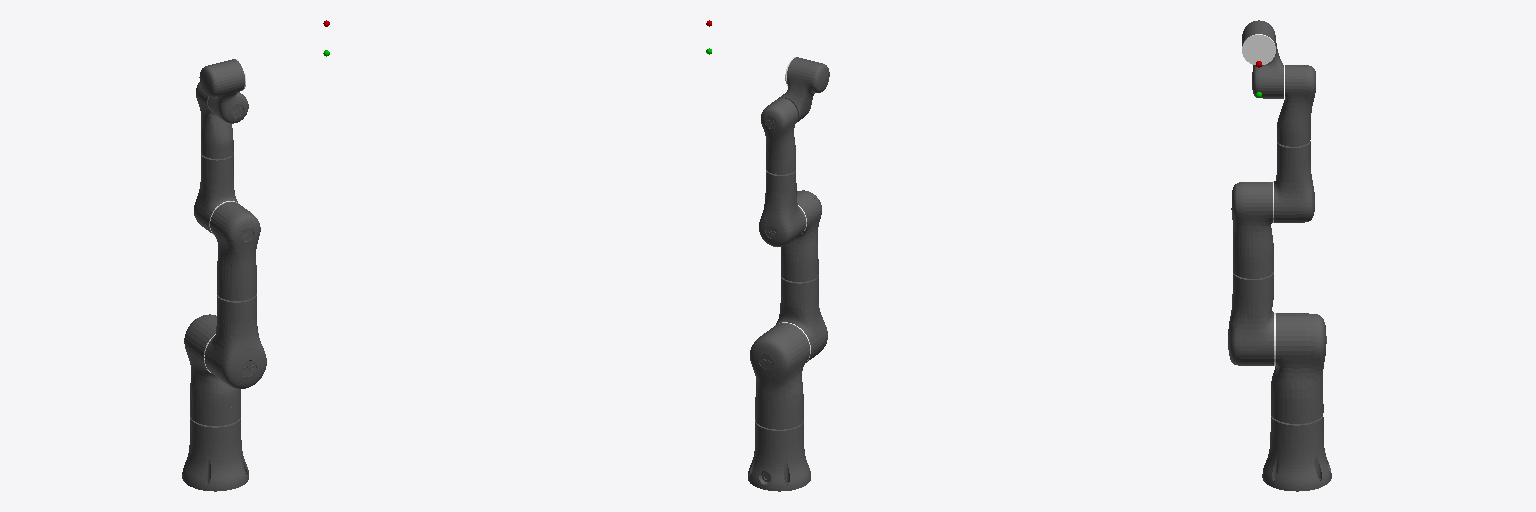
robot.urdf — rizon_with_gripper:
<?xml version="1.0"?>
<!-- ======================================================================== -->
<!-- | Flexiv Rizon 10s (with blurred dynamic parameters)                   | -->
<!-- ======================================================================== -->
<robot name="rizon_with_gripper">

  <mujoco>
    <compiler 
    meshdir="../meshes" 
    balanceinertia="true" 
    discardvisual="false" 
    strippath="false" />
  </mujoco>

  <material name="rizon_light_grey">
    <color rgba="0.7 0.7 0.7 1.0" />
  </material>
  <material name="rizon_dark_grey">
    <color rgba="0.4 0.4 0.4 1.0" />
  </material>
  <material name="rizon_white">
    <color rgba="1.0 1.0 1.0 1.0" />
  </material>

  <material name="2f_85_silicone">
    <color rgba="0.1882 0.1882 0.1882 1"/>
  </material>
  <material name="2f_85_gray">
    <color rgba="0.4627 0.4627 0.4627 1"/>
  </material>
  <material name="2f_85_black">
    <color rgba="0.149 0.149 0.149 1"/>
  </material>

  <material name="green">
    <color rgba="0.0 0.8 0.0 1.0"/>
  </material>
  <material name="red">
    <color rgba="0.8 0.0 0.0 1.0"/>
  </material>

  <link name="link0">
    <inertial>
      <mass value="9.2" />
      <origin rpy="0 0 0" xyz="0.0 -0.0 0.13" />
      <inertia ixx="0.08" ixy="0.0" ixz="-0.0" iyy="0.08" iyz="0.0" izz="0.04" />
    </inertial>
    <visual name="shell-0">
      <origin rpy="0 0 0" xyz="0 0 0" />
      <geometry>
        <mesh filename="rizon10s/visual/v_link0.obj" />
      </geometry>
      <material name="rizon_dark_grey" />
    </visual>


    <!--<collision name="hull-0">-->
    <!--  <origin rpy="0 0 0" xyz="0 0 0" />-->
    <!--  <geometry>-->
    <!--    <mesh filename="rizon10s/collision/c_link0.stl" />-->
    <!--  </geometry>-->
    <!--</collision>-->

      <collision name="c_link0.stl">
      <origin rpy="-3.135731200509898 -0.0070914286865064674 1.7601452401316544" xyz="0.00032891819899692 -0.00036876907392473224 0.07876664364163569"/>
      <geometry>
        <cylinder radius="0.10828695195085732" length="0.10862981656370363"/>
      </geometry>
    </collision>

  <collision_checking><capsule name="c_link0.stl"/></collision_checking>




  </link>

  <joint name="joint_1" type="revolute">
    <parent link="link0" />
    <child link="link1" />
    <origin rpy="0.0 0.0 -3.141592653589793" xyz="0.0 0.0 0.21" />
    <axis xyz="0 0 1" />
    <limit effort="261" lower="-2.7925" upper="2.7925" velocity="1.7453" />
  </joint>

  <link name="link1">
    <inertial>
      <mass value="9.7" />
      <origin rpy="0 0 0" xyz="0.0 0.03 0.16" />
      <inertia ixx="0.18" ixy="0.0" ixz="0.0" iyy="0.17" iyz="0.02" izz="0.04" />
    </inertial>
    <visual name="shell-1">
      <origin rpy="0 0 0" xyz="0 0 0" />
      <geometry>
        <mesh filename="rizon10s/visual/v_link1.obj" />
      </geometry>
      <material name="rizon_dark_grey" />
    </visual>
    <visual name="ring-1">
      <origin rpy="0 0 0" xyz="0 0 -0.0025" />
      <geometry>
        <mesh filename="rizon10s/visual/v_ring_s1.obj"  />
      </geometry>
      <material name="rizon_white" />
    </visual>

  

   <!--<collision name="hull-1">-->
    <!--  <origin rpy="0 0 0" xyz="0 0 0" />-->
    <!--  <geometry>-->
    <!--    <mesh filename="rizon10s/collision/c_link1.stl" />-->
    <!--  </geometry>-->
    <!--</collision>-->

    <collision name="c_link1.stl">
      <origin rpy="3.1401209981186198 -0.005307839694209449 -2.6006602298211883" xyz="0.00024814527368391225 0.00029127196083683957 0.15303012648186404"/>
      <geometry>
        <cylinder radius="0.11" length="0.1820172995965973"/>
      </geometry>
    </collision>




  </link>

  <joint name="joint_2" type="revolute">
    <parent link="link1" />
    <child link="link2" />
    <origin rpy="0.0 0.0 0.0" xyz="0.0 0.0675 0.24" />
    <axis xyz="0 1 0" />
    <limit effort="261" lower="-2.6704" upper="2.6704" velocity="1.7453" />
  </joint>

  <link name="link2">
    <inertial>
      <mass value="6.56" />
      <origin rpy="0 0 0" xyz="-0.008 0.03 0.11" />
      <inertia ixx="0.1" ixy="0.0" ixz="0.0" iyy="0.08" iyz="0.02" izz="0.03" />
    </inertial>
    <visual name="shell-2">
      <origin rpy="0 0 0" xyz="0 0 0" />
      <geometry>
        <mesh filename="rizon10s/visual/v_link2.obj" />
      </geometry>
      <material name="rizon_dark_grey" />
    </visual>
    <visual name="ring-2">
      <origin rpy="1.5707963 0 0" xyz="0 -0.0025 0" />
      <geometry>
        <mesh filename="rizon10s/visual/v_ring_s2.obj"  />
      </geometry>
      <material name="rizon_white" />
    </visual>

<!-- 
    <collision name="hull-2">
      <origin rpy="0 0 0" xyz="0 0 0" />
      <geometry>
        <mesh filename="c_link2.stl" />
      </geometry>
    </collision> -->

    <collision name="c_link2.stl">
      <origin rpy="-0.04126720865260602 -0.005040524508146377 0.00010401917072817447" xyz="-0.0002424301681967157 0.05976210733104183 0.07367088388281477"/>
      <geometry>
        <cylinder radius="0.09838617557444361" length="0.1493152186350586"/>
      </geometry>
    </collision>

  <collision_checking><capsule name="c_link2.stl"/></collision_checking>





  </link>

  <joint name="joint_3" type="revolute">
    <parent link="link2" />
    <child link="link3" />
    <origin rpy="0.0 0.0 0.0" xyz="0.0 0.0625 0.2275" />
    <axis xyz="0 0 1" />
    <limit effort="123" lower="-2.7925" upper="2.7925" velocity="2.0944" />
  </joint>

  <link name="link3">
    <inertial>
      <mass value="5.45"/>
      <origin rpy="0 0 0" xyz="0.0 -0.026 0.17" />
      <inertia ixx="0.04" ixy="-0.0" ixz="-0.0" iyy="0.03" iyz="-0.01" izz="0.01" />
    </inertial>
    <visual name="shell-3">
      <origin rpy="0 0 0" xyz="0 0 0" />
      <geometry>
        <mesh filename="rizon10s/visual/v_link3.obj" />
      </geometry>
      <material name="rizon_dark_grey" />
    </visual>
    <visual name="ring-3">
      <origin rpy="0 0 0" xyz="0 0 -0.0025" />
      <geometry>
        <mesh filename="rizon10s/visual/v_ring_s3.obj"  />
      </geometry>
      <material name="rizon_white" />
    </visual>

<!-- 
    <collision name="hull-3">
      <origin rpy="0 0 0" xyz="0 0 0" />
      <geometry>
        <mesh filename="c_link3.stl" />
      </geometry>
    </collision> -->

        <collision name="c_link3.stl">
      <origin rpy="-3.110942166794248 0.012942070040906195 -0.7990266024421873" xyz="0.0009435946660551249 -0.003243672501785833 0.13776199595725278"/>
      <geometry>
        <cylinder radius="0.08133934809468238" length="0.17962829931741664"/>
      </geometry>
    </collision>

    <collision_checking><capsule name="c_link3.stl"/></collision_checking>

  
  
  
  
  </link>

  <joint name="joint_4" type="revolute">
    <parent link="link3" />
    <child link="link4" />
    <origin rpy="0.0 0.0 -3.141592653589793" xyz="0.0 -0.0625 0.2225" />
    <axis xyz="0 1 0" />
    <limit effort="123" lower="-2.7053" upper="2.7053" velocity="2.0944" />
  </joint>

  <link name="link4">
    <inertial>
      <mass value="2.906" />
      <origin rpy="0 0 0" xyz="0.013 0.047 0.101" />
      <inertia ixx="0.03" ixy="0.0" ixz="0.0" iyy="0.03" iyz="0.0" izz="0.01" />
    </inertial>
    <visual name="shell-4">
      <origin rpy="0 0 0" xyz="0 0 0" />
      <geometry>
        <mesh filename="rizon10s/visual/v_link4.obj" />
      </geometry>
      <material name="rizon_dark_grey" />
    </visual>
    <visual name="ring-4">
      <origin rpy="1.5707963 0 0" xyz="0 -0.0025 0" />
      <geometry>
        <mesh filename="rizon10s/visual/v_ring_s4.obj"  />
      </geometry>
      <material name="rizon_white" />
    </visual>

  
  
     <!--<collision name="hull-4">-->
    <!--  <origin rpy="0 0 0" xyz="0 0 0" />-->
    <!--  <geometry>-->
    <!--    <mesh filename="rizon10s/collision/c_link4.stl" />-->
    <!--  </geometry>-->
    <!--</collision>-->

    <collision name="c_link4.stl">
      <origin rpy="-0.04999599865678187 -0.0068829879926115625 0.00017209745747710214" xyz="-0.0005080457137345763 0.05393072897828459 0.06885405527591208"/>
      <geometry>
        <cylinder radius="0.08058945288499701" length="0.14050029766613556"/>
      </geometry>
    </collision>

  <collision_checking><capsule name="c_link4.stl"/></collision_checking>
  
  
  
  
  </link>

  <joint name="joint_5" type="revolute">
    <parent link="link4" />
    <child link="link5" />
    <origin rpy="0.0 0.0 -3.141592653589793" xyz="0.0 0.0575 0.205" />
    <axis xyz="0 0 1" />
    <limit effort="57" lower="-2.9671" upper="2.9671" velocity="3.8397" />
  </joint>

  <link name="link5">
    <inertial>
      <mass value="2.523" />
      <origin rpy="0 0 0" xyz="0.004 0.007 0.1309" />
      <inertia ixx="0.01" ixy="0.0" ixz="0.0" iyy="0.01" iyz="0.0" izz="0.001" />
    </inertial>
    <visual name="shell-5">
      <origin rpy="0 0 0" xyz="0 0 0" />
      <geometry>
        <mesh filename="rizon10s/visual/v_link5.obj" />
      </geometry>
      <material name="rizon_dark_grey" />
    </visual>
    <visual name="ring-5">
      <origin rpy="0 0 0" xyz="0 0 -0.0025" />
      <geometry>
        <mesh filename="rizon10s/visual/v_ring_s5.obj"  />
      </geometry>
      <material name="rizon_white" />
    </visual>





    <!--<collision name="hull-5">-->
    <!--  <origin rpy="0 0 0" xyz="0 0 0" />-->
    <!--  <geometry>-->
    <!--    <mesh filename="rizon10s/collision/c_link5.stl" />-->
    <!--  </geometry>-->
    <!--</collision>-->

    <collision name="c_link5.stl">
      <origin rpy="-3.062942439795058 0.0025142117447503054 -0.06387935132241074" xyz="0.0002143888046636051 -0.0062263048590413045 0.1148623027407365"/>
      <geometry>
        <cylinder radius="0.06321103718614053" length="0.1586607128833286"/>
      </geometry>
    </collision>

  <collision_checking><capsule name="c_link5.stl"/></collision_checking>



  
  
  
  
  
  
  </link>

  <joint name="joint_6" type="revolute">
    <parent link="link5" />
    <child link="link6" />
    <origin rpy="0.0 0.0 0.0" xyz="0.0 0.03 0.19" />
    <axis xyz="0 1 0" />
    <limit effort="57" lower="-1.3963" upper="4.5379" velocity="3.8397" />
  </joint>

  <link name="link6">
    <inertial>
      <mass value="2.426" />
      <origin rpy="0 0 0" xyz="0.02 0.057 0.066" />
      <inertia ixx="0.01" ixy="0.0" ixz="0.0" iyy="0.01" iyz="0.0" izz="0.001" />
    </inertial>
    <visual name="shell-6">
      <origin rpy="0 0 0" xyz="0 0 0" />
      <geometry>
        <mesh filename="rizon10s/visual/v_link6.obj" />
      </geometry>
      <material name="rizon_dark_grey" />
    </visual>
    <visual name="ring-6">
      <origin rpy="1.5707963 0 0" xyz="0 -0.0025 0" />
      <geometry>
        <mesh filename="rizon10s/visual/v_ring_s6.obj"  />
      </geometry>
      <material name="rizon_white" />
    </visual>




   <!--<collision name="hull-6">-->
    <!--  <origin rpy="0 0 0" xyz="0 0 0" />-->
    <!--  <geometry>-->
    <!--    <mesh filename="rizon10s/collision/c_link6.stl" />-->
    <!--  </geometry>-->
    <!--</collision>-->

    <collision name="c_link6.stl">
      <origin rpy="2.8107047832724485 -0.3512021488559727 -1.6315119697149592" xyz="0.02153718931005263 0.056258354575723396 0.059821353702356424"/>
      <geometry>
        <cylinder radius="0.07271170783548435" length="0.1132427653650164"/>
      </geometry>
    </collision>

  <collision_checking><capsule name="c_link6.stl"/></collision_checking>



  </link>

  <joint name="joint_7" type="revolute">
    <parent link="link6" />
    <child link="link7" />
    <origin rpy="0.0 -1.5707963478683205 0.0" xyz="-0.015 0.073 0.11" />
    <axis xyz="0 0 1" />
    <limit effort="57" lower="-2.9671" upper="2.9671" velocity="3.8397" />
  </joint>

  <link name="link7">
    <inertial>
      <mass value="2.9811" />
      <origin rpy="0 0 0" xyz="0.003 0.003 0.107" />
      <!--note: i changed inertia from 0.01 to 0.001 because mujoco simulation was unstable-->
      <inertia ixx="0.01" ixy="0.0" ixz="0.0" iyy="0.01" iyz="0.0" izz="0.01" />
    </inertial>
    <visual name="shell-7">
      <origin rpy="0 0 0" xyz="0 0 0" />
      <geometry>
        <mesh filename="rizon10s/visual/v_link7.obj" />
      </geometry>
      <material name="rizon_dark_grey" />
    </visual>
    <visual name="ring-7">
      <origin rpy="0 0 0" xyz="0 0 -0.0025" />
      <geometry>
        <mesh filename="rizon10s/visual/v_ring_s7.obj"  />
      </geometry>
      <material name="rizon_white" />
    </visual>



   <!--<collision name="hull-7">-->
    <!--  <origin rpy="0 0 0" xyz="0 0 0" />-->
    <!--  <geometry>-->
    <!--    <mesh filename="rizon10s/collision/c_link7.stl" />-->
    <!--  </geometry>-->
    <!--</collision>-->

    <collision name="c_link7.stl">
      <origin rpy="0.0004100094101540108 -0.0007421483351071068 -1.5214390947093648e-07" xyz="3.4338789721404413e-06 0.00010384113989505138 0.05293979816513525"/>
      <geometry>
        <cylinder radius="0.05225879509988878" length="0.08200182317353522"/>
      </geometry>
    </collision>




  </link>

  <joint name="ee_joint" type="fixed">
    <origin rpy="0.0 0.0 -1.570796326794896" xyz="0.0 0.0 0.1593" />
    <parent link="link7"/>
    <child link="2f_85_base_mount"/>
  </joint>

  <link name="2f_85_base_mount">
    <visual>
      <geometry>
        <mesh filename="gripper_s/base_mount.stl" scale="0.001 0.001 0.001"/>
      </geometry>
      <material name="2f_85_black"/>
    </visual>
    <collision>
      <geometry>
        <mesh filename="gripper_s/base_mount.stl" scale="0.001 0.001 0.001"/>
      </geometry>
    </collision>
  </link>

  <joint name="2f_85_base_joint" type="fixed">
    <origin rpy="0 0 -1.5707963" xyz="0 0 0.0038"/>
    <parent link="2f_85_base_mount"/>
    <child link="2f_85_base"/>
  </joint>

  <link name="2f_85_base">
    <visual>
      <geometry>
        <mesh filename="gripper_s/base.stl" scale="0.001 0.001 0.001"/>
      </geometry>
      <material name="2f_85_black"/>
    </visual>
    <collision>
      <geometry>
        <mesh filename="gripper_s/base.stl" scale="0.001 0.001 0.001"/>
      </geometry>
    </collision>
  </link>

  <joint name="gripper_center_joint" type="fixed">
    <origin rpy="3.141592653589793  0 3.141592653589793" xyz="0 0 0.15"/>
    <parent link="2f_85_base"/>
    <child link="gripper_center"/>
  </joint>

  <link name="gripper_center">
    <visual>
      <origin xyz="0 0 0.0"/>
      <geometry>
        <sphere radius="0.01"/>
      </geometry>
      <material name="green"/>
    </visual>
    <visual>
      <origin xyz=".1 0 0.0"/>
      <geometry>
        <sphere radius="0.01"/>
      </geometry>
      <material name="red"/>
    </visual>
  </link>

  <!-- right finger -->
  <joint name="2f_85_right_driver_joint" type="fixed">
    <origin rpy="0 0 0" xyz="0 0.0306011 0.054904"/>
    <parent link="2f_85_base"/>
    <child link="2f_85_right_driver"/>
    <axis xyz="1 0 0"/>
    <limit effort="60" lower="0.0" upper="0.834" velocity="1.91986177778"/>
  </joint>

  <link name="2f_85_right_driver">
    <visual>
      <geometry>
        <mesh filename="gripper_s/driver.stl" scale="0.001 0.001 0.001"/>
      </geometry>
      <material name="2f_85_gray"/>
    </visual>
    <collision>
      <geometry>
        <mesh filename="gripper_s/driver.stl" scale="0.001 0.001 0.001"/>
      </geometry>
    </collision>
  </link>

  <joint name="2f_85_right_coupler_joint" type="fixed">
    <origin rpy="0 0 0" xyz="0 0.0315 -0.0041"/>
    <parent link="2f_85_right_driver"/>
    <child link="2f_85_right_coupler"/>
  </joint>

  <link name="2f_85_right_coupler">
    <visual>
      <geometry>
        <mesh filename="gripper_s/coupler.stl" scale="0.001 0.001 0.001"/>
      </geometry>
      <material name="2f_85_black"/>
    </visual>
    <collision>
      <geometry>
        <mesh filename="gripper_s/coupler.stl" scale="0.001 0.001 0.001"/>
      </geometry>
    </collision>
  </link>

  <joint name="2f_85_right_follower_joint" type="fixed">
    <origin rpy="0 0 0" xyz="0 0.0061 0.0471"/>
    <parent link="2f_85_right_coupler"/>
    <child link="2f_85_right_follower"/>
    <axis xyz="1 0 0"/>
    <limit effort="176" lower="-2.96705911111" upper="2.96705911111" velocity="1.91986177778"/>
    <mimic joint="2f_85_right_driver_joint" multiplier="-1"/>
  </joint>

  <link name="2f_85_right_follower">
    <visual>
      <geometry>
        <mesh filename="gripper_s/follower.stl" scale="0.001 0.001 0.001"/>
      </geometry>
      <material name="2f_85_black"/>
    </visual>
    <collision>
      <geometry>
        <mesh filename="gripper_s/follower.stl" scale="0.001 0.001 0.001"/>
      </geometry>
    </collision>
  </link>

  <joint name="2f_85_right_pad_joint" type="fixed">
    <origin rpy="0 0 0" xyz="0 -0.0189 0.01352"/>
		<parent link="2f_85_right_follower"/>
		<child link="2f_85_right_pad"/>
	</joint>

	<link name="2f_85_right_pad">
		<visual>
			<geometry>
				<mesh filename="gripper_s/pad.stl" scale="0.001 0.001 0.001"/>
			</geometry>
      <material name="2f_85_gray"/>
		</visual>
		<collision>
			<geometry>
				<mesh filename="gripper_s/pad.stl" scale="0.001 0.001 0.001"/>
			</geometry>
		</collision>
    <visual>
			<geometry>
				<mesh filename="gripper_s/silicone_pad.stl" scale="0.001 0.001 0.001"/>
			</geometry>
      <material name="2f_85_silicone"/>
		</visual>
    <collision>
			<geometry>
				<mesh filename="gripper_s/silicone_pad.stl" scale="0.001 0.001 0.001"/>
			</geometry>
		</collision>
	</link>

  <joint name="2f_85_right_spring_link_joint" type="fixed">
    <origin rpy="0 0 0" xyz="0 0.0132 0.0609"/>
    <parent link="2f_85_base"/>
    <child link="2f_85_right_spring_link"/>
    <axis xyz="1 0 0"/>
    <limit effort="176" lower="-2.96705911111" upper="2.96705911111" velocity="1.91986177778"/>
    <mimic joint="2f_85_right_driver_joint" multiplier="1"/>
  </joint>

  <link name="2f_85_right_spring_link">
    <visual>
      <geometry>
        <mesh filename="gripper_s/spring_link.stl" scale="0.001 0.001 0.001"/>
      </geometry>
      <material name="2f_85_black"/>
    </visual>
    <collision>
      <geometry>
        <mesh filename="gripper_s/spring_link.stl" scale="0.001 0.001 0.001"/>
      </geometry>
    </collision>
  </link>

  <!-- left finger -->
  <joint name="2f_85_left_driver_joint" type="fixed">
    <origin rpy="0 0 3.141592653589793" xyz="0 -0.0306011 0.054904"/>
    <parent link="2f_85_base"/>
    <child link="2f_85_left_driver"/>
    <axis xyz="1 0 0"/>
    <limit effort="176" lower="0.0" upper="0.834" velocity="1.91986177778"/>
    <mimic joint="2f_85_right_driver_joint" multiplier="1"/>
  </joint>

  <link name="2f_85_left_driver">
    <visual>
      <geometry>
        <mesh filename="gripper_s/driver.stl" scale="0.001 0.001 0.001"/>
      </geometry>
      <material name="2f_85_gray"/>
    </visual>
    <collision>
      <geometry>
        <mesh filename="gripper_s/driver.stl" scale="0.001 0.001 0.001"/>
      </geometry>
    </collision>
  </link>

  <joint name="2f_85_left_coupler_joint" type="fixed">
    <origin rpy="0 0 0" xyz="0 0.0315 -0.0041"/>
    <parent link="2f_85_left_driver"/>
    <child link="2f_85_left_coupler"/>
  </joint>

  <link name="2f_85_left_coupler">
    <visual>
      <geometry>
        <mesh filename="gripper_s/coupler.stl" scale="0.001 0.001 0.001"/>
      </geometry>
      <material name="2f_85_black"/>
    </visual>
    <collision>
      <geometry>
        <mesh filename="gripper_s/coupler.stl" scale="0.001 0.001 0.001"/>
      </geometry>
    </collision>
  </link>

  <joint name="2f_85_left_follower_joint" type="fixed">
    <origin rpy="0 0 0" xyz="0 0.0061 0.0471"/>
    <parent link="2f_85_left_coupler"/>
    <child link="2f_85_left_follower"/>
    <axis xyz="1 0 0"/>
    <limit effort="176" lower="-2.96705911111" upper="2.96705911111" velocity="1.91986177778"/>
    <mimic joint="2f_85_right_driver_joint" multiplier="-1"/>
  </joint>

  <link name="2f_85_left_follower">
    <visual>
      <geometry>
        <mesh filename="gripper_s/follower.stl" scale="0.001 0.001 0.001"/>
      </geometry>
      <material name="2f_85_black"/>
    </visual>
    <collision>
      <geometry>
        <mesh filename="gripper_s/follower.stl" scale="0.001 0.001 0.001"/>
      </geometry>
    </collision>
  </link>

  <joint name="2f_85_left_pad_joint" type="fixed">
    <origin rpy="0 0 0" xyz="0 -0.0189 0.01352"/>
		<parent link="2f_85_left_follower"/>
		<child link="2f_85_left_pad"/>
	</joint>

	<link name="2f_85_left_pad">
		<visual>
			<geometry>
				<mesh filename="gripper_s/pad.stl" scale="0.001 0.001 0.001"/>
			</geometry>
      <material name="2f_85_gray"/>
		</visual>
		<collision>
			<geometry>
				<mesh filename="gripper_s/pad.stl" scale="0.001 0.001 0.001"/>
			</geometry>
		</collision>
    <visual>
			<geometry>
				<mesh filename="gripper_s/silicone_pad.stl" scale="0.001 0.001 0.001"/>
			</geometry>
      <material name="2f_85_silicone"/>
		</visual>
		<collision>
			<geometry>
				<mesh filename="gripper_s/silicone_pad.stl" scale="0.001 0.001 0.001"/>
			</geometry>
		</collision>
	</link>

  <joint name="2f_85_left_spring_link_joint" type="fixed">
    <origin rpy="0 0 3.141592653589793" xyz="0 -0.0132 0.0609"/>
    <parent link="2f_85_base"/>
    <child link="2f_85_left_spring_link"/>
    <axis xyz="1 0 0"/>
    <limit effort="176" lower="-2.96705911111" upper="2.96705911111" velocity="1.91986177778"/>
    <mimic joint="2f_85_right_driver_joint" multiplier="1"/>
  </joint>

  <link name="2f_85_left_spring_link">
    <visual>
      <geometry>
        <mesh filename="gripper_s/spring_link.stl" scale="0.001 0.001 0.001"/>
      </geometry>
      <material name="2f_85_black"/>
    </visual>
    <collision>
      <geometry>
        <mesh filename="gripper_s/spring_link.stl" scale="0.001 0.001 0.001"/>
      </geometry>
    </collision>
  </link>

  <joint name="link7_to_flange" type="fixed">
    <parent link="link7" />
    <child link="flange" />
    <origin rpy="0.0 0.0 -3.141592653589793" xyz="0.0 0.0 0.124" />
  </joint>

  <link name="flange" >
   <inertial>
      <mass value="0" />
      <origin rpy="0 0 0" xyz="0.0 0.0 0.057" />
      <inertia ixx="0.03" ixy="0.0" ixz="0.0" iyy="0.03" iyz="0.0" izz="0.01" />
    </inertial>
  </link>

</robot>

--- Facts derived from the render (not from the file) ---
3 views of the same robot in one strip: view 1: azimuth 30°, elevation 25°; view 2: azimuth 150°, elevation 25°; view 3: azimuth 270°, elevation 25° (orthographic).
Model rizon_with_gripper with 22 links and 21 joints (7 revolute, 14 fixed), rooted at link0, posed all joints at 0.
Visible links, largest first — view 1: link2, link3, link0, link1, link6, link4, link5; view 2: link1, link0, link4, link2, link3, link5, link6; view 3: link1, link0, link2, link3, link4, link5, link6, link7.
Link boxes in pixels (x1=…): link2: x1=204, y1=294, x2=266, y2=388; link3: x1=210, y1=202, x2=260, y2=300; link0: x1=182, y1=417, x2=248, y2=491; link1: x1=184, y1=314, x2=240, y2=425; link6: x1=199, y1=59, x2=248, y2=123; link4: x1=194, y1=153, x2=238, y2=235; link5: x1=196, y1=82, x2=233, y2=158; link1: x1=750, y1=323, x2=809, y2=429; link0: x1=748, y1=420, x2=810, y2=491; link4: x1=759, y1=170, x2=806, y2=246; link2: x1=775, y1=275, x2=827, y2=362; link3: x1=781, y1=190, x2=821, y2=281; link5: x1=761, y1=98, x2=797, y2=174; link6: x1=778, y1=57, x2=829, y2=122; link1: x1=1271, y1=313, x2=1326, y2=423; link0: x1=1262, y1=416, x2=1331, y2=491; link2: x1=1228, y1=272, x2=1275, y2=365; link3: x1=1231, y1=182, x2=1273, y2=278; link4: x1=1273, y1=141, x2=1314, y2=222; link5: x1=1277, y1=65, x2=1315, y2=146; link6: x1=1242, y1=20, x2=1283, y2=98; link7: x1=1242, y1=34, x2=1275, y2=64.
Bounding box of the posed robot: 0.4436 × 0.3073 × 1.51 m (x, y, z).
Meshes: 23 distinct files referenced, 24 mesh visuals loaded (8 binary STL, 10 OBJ); not drawn: 5 (reference not matched to a file when rendering).
